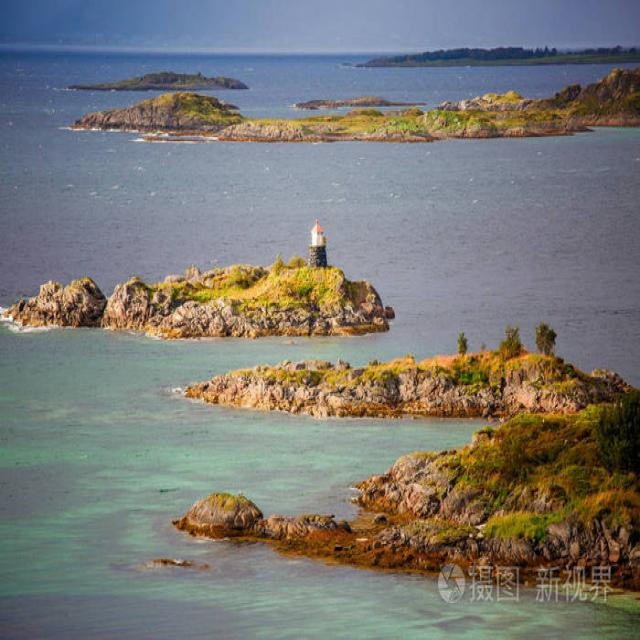reef: (154, 421, 578, 584), (77, 107, 514, 186), (15, 248, 262, 334), (75, 41, 254, 97)
